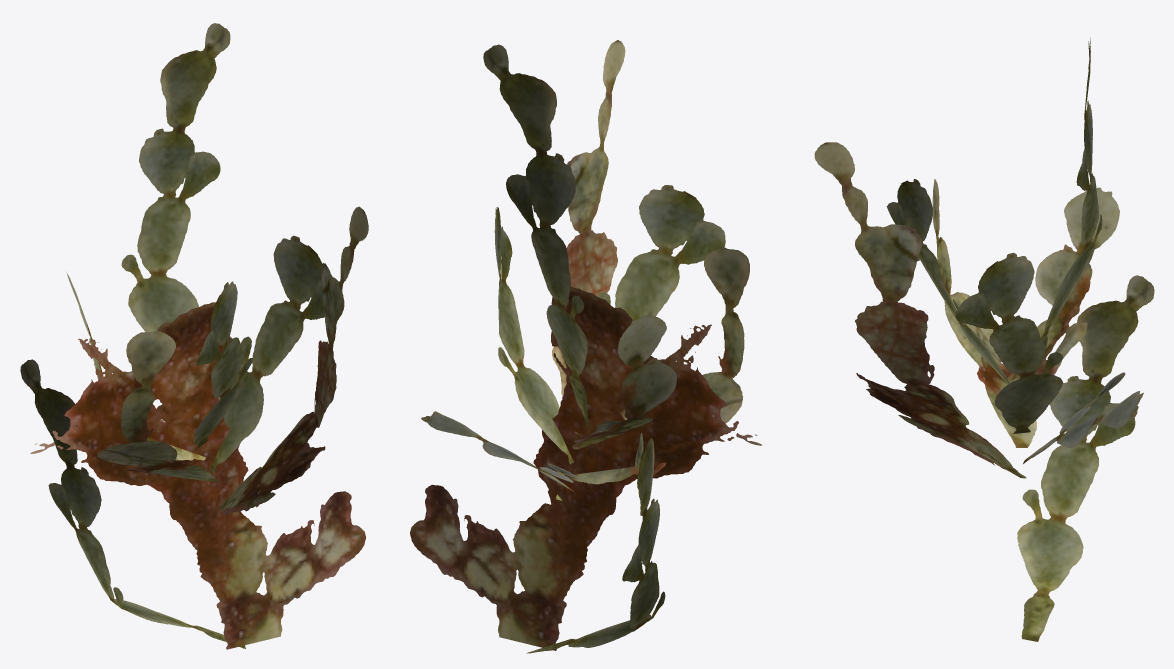
The model's file is seaweed_3_1.FBX.
The picture shows the model from 3 angles, left to right: view 1: azimuth 30°, elevation 25°; view 2: azimuth 150°, elevation 25°; view 3: azimuth 270°, elevation 25°; orthographic projection. The views are drawn at different scales.
Parts seen in each view (by area): view 1: seaweed_3_01; view 2: seaweed_3_01; view 3: seaweed_3_01.
Boxes of the visible parts, box(x1,y1,x2,y2) form: seaweed_3_01: box(20, 23, 368, 649); seaweed_3_01: box(410, 40, 761, 653); seaweed_3_01: box(814, 37, 1154, 641).
Size of the model in its own units: 14.24 by 23.08 by 12.17.
1 material, 1 textured.
